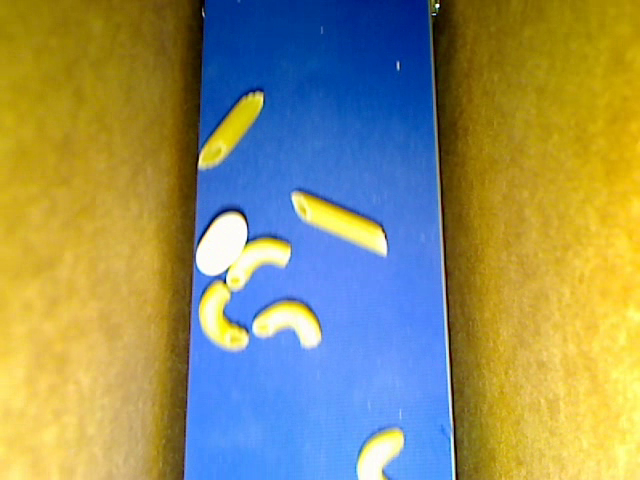elbow: (198, 277, 248, 350), (226, 237, 291, 292), (251, 299, 322, 347), (355, 425, 405, 479)
penne: (291, 190, 388, 256), (197, 92, 263, 169)
